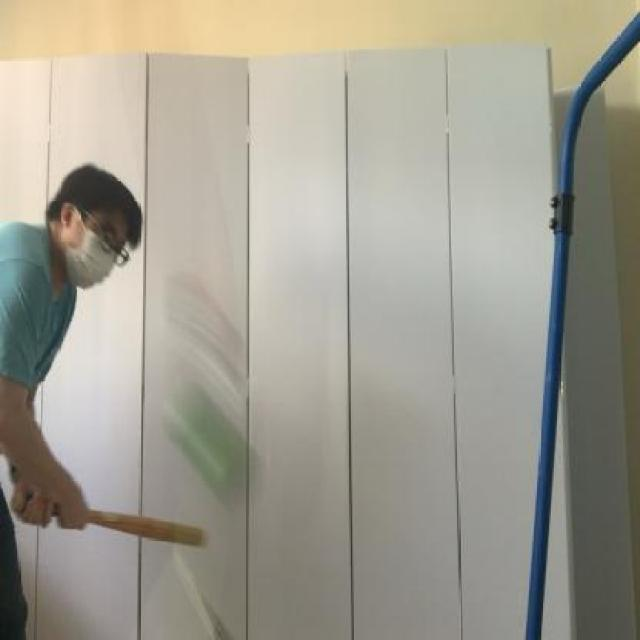baseball: (157, 369, 265, 511)
